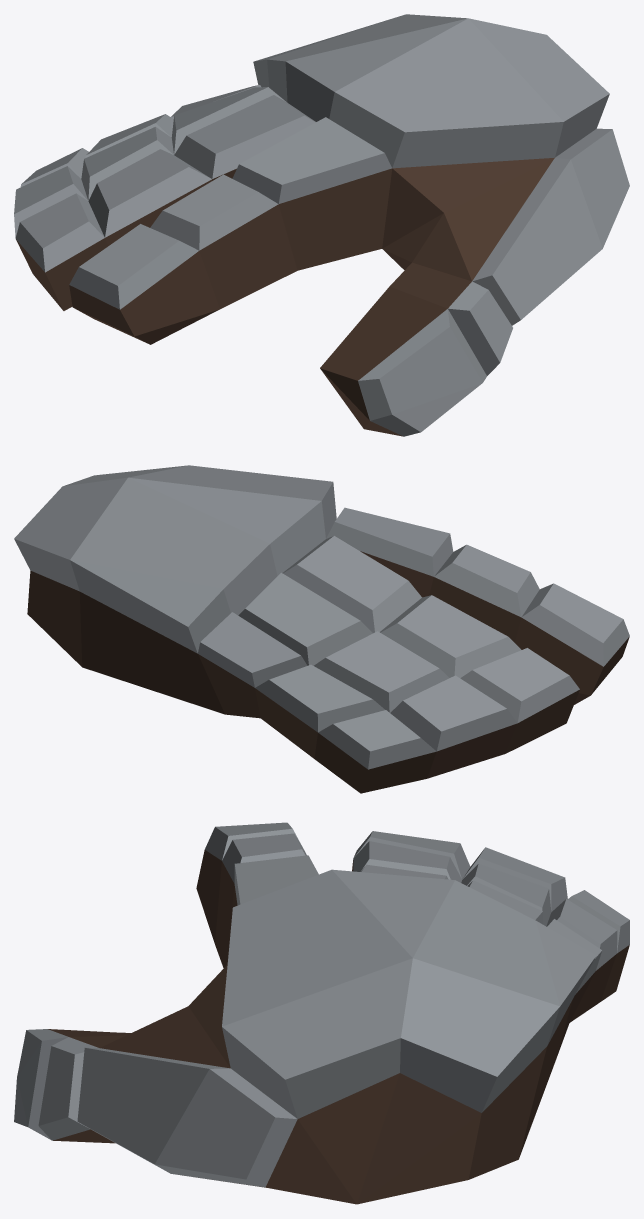
Rendered from Chr_HandRight_Female_14_Static.fbx.
3 views of the same model, one above another, from view 1: azimuth 30°, elevation 25°; view 2: azimuth 150°, elevation 25°; view 3: azimuth 270°, elevation 25° (orthographic). The views are drawn at different scales.
Parts seen in each view (by area): view 1: Chr_HandRight_Female_14_Static; view 2: Chr_HandRight_Female_14_Static; view 3: Chr_HandRight_Female_14_Static.
Boxes of the visible parts, box(x1,y1,x2,y2) form: Chr_HandRight_Female_14_Static: box(14, 14, 629, 436); Chr_HandRight_Female_14_Static: box(14, 465, 629, 793); Chr_HandRight_Female_14_Static: box(14, 822, 629, 1204).
Bounding box in the file's own units: 0.2362 × 0.1111 × 0.1945.
